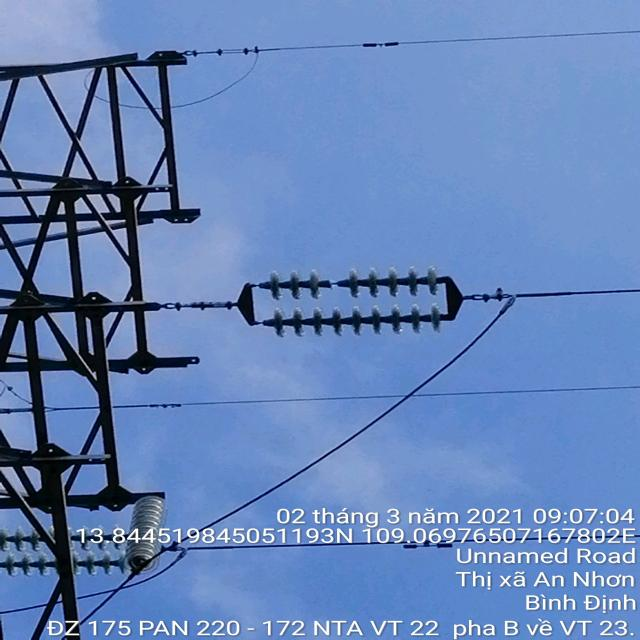杆塔: (2, 46, 195, 640)
正常电缆: (199, 22, 640, 61), (182, 530, 640, 553), (464, 280, 640, 308)
正常绝缘子: (242, 272, 466, 333), (3, 534, 132, 572), (122, 492, 166, 574)
绝缘子破损: (326, 279, 344, 289)
